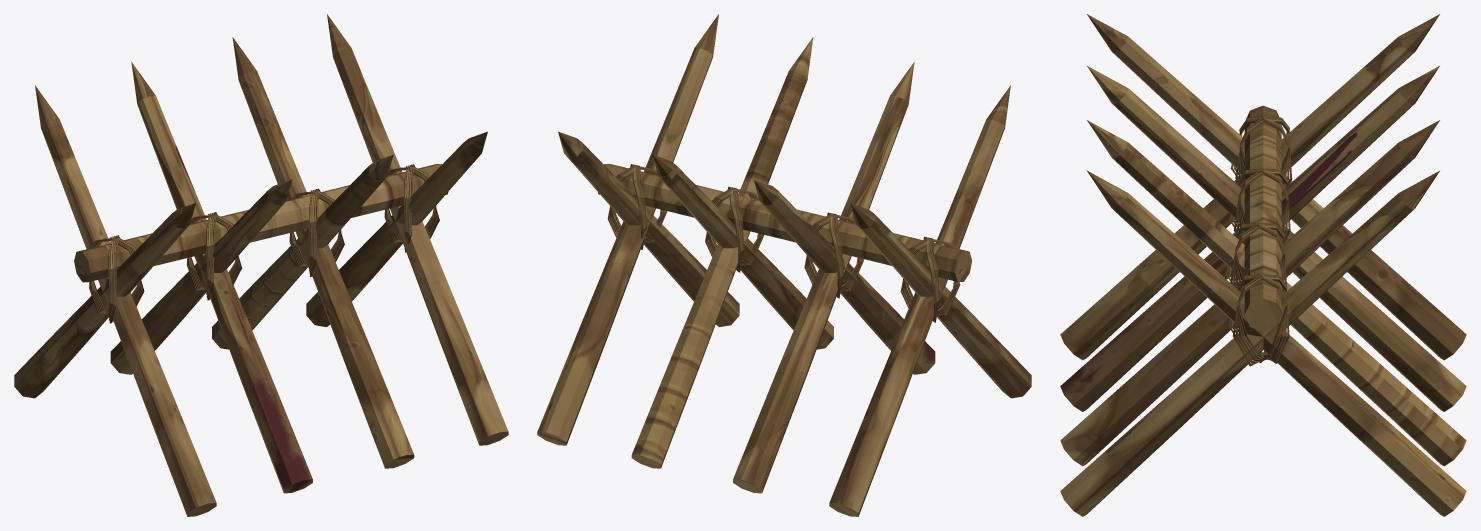
The model's file is barricade.fbx.
3 views of the same model, side by side, from view 1: azimuth 30°, elevation 25°; view 2: azimuth 150°, elevation 25°; view 3: azimuth 270°, elevation 25° (orthographic). The views are drawn at different scales.
Parts seen in each view (by area): view 1: Cylinder.002; view 2: Cylinder.002; view 3: Cylinder.002.
Part boxes in pixels (x1=…): Cylinder.002: x1=14, y1=14, x2=508, y2=516; Cylinder.002: x1=537, y1=14, x2=1031, y2=516; Cylinder.002: x1=1060, y1=14, x2=1466, y2=516.
Size of the model in its own units: 147 by 123 by 131.
1 material, 1 textured.
